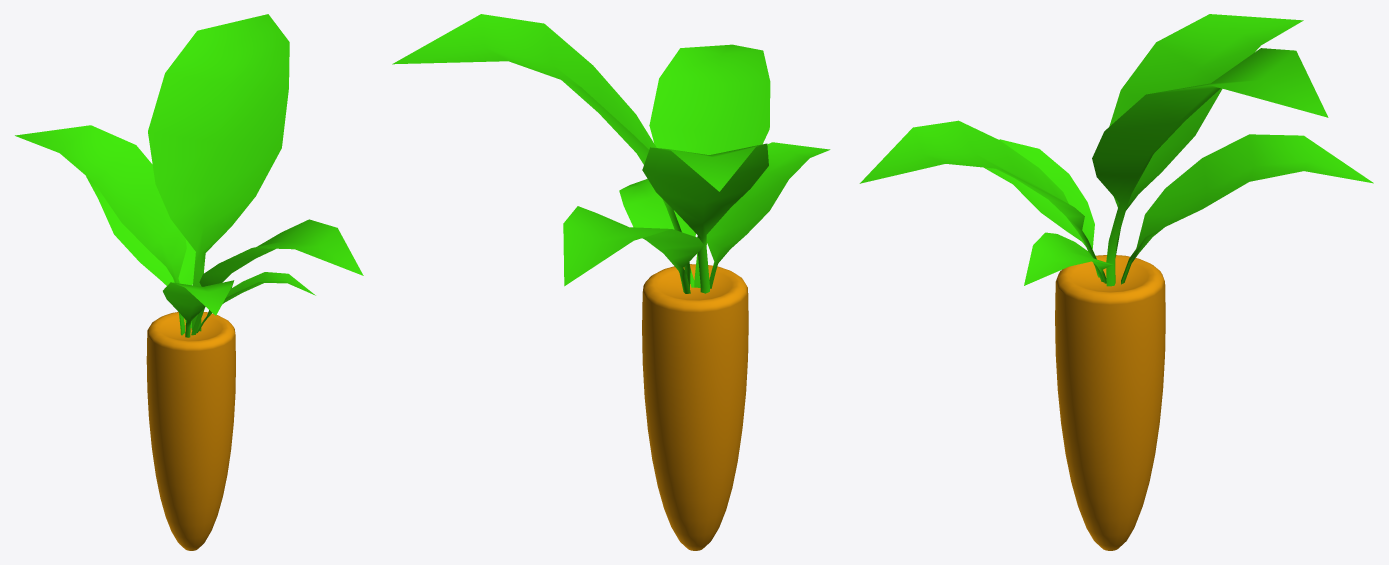
The model's file is ninzin.fbx.
3 renders of one model, left to right at view 1: azimuth 30°, elevation 25°; view 2: azimuth 150°, elevation 25°; view 3: azimuth 270°, elevation 25°, orthographic. The views are drawn at different scales.
Visible parts, largest first — view 1: pPlane7, ninzin, pPlane4, pPlane8, pPlane3, pPlane5, pPlane6; view 2: ninzin, pPlane8, pPlane7, pPlane4, pPlane3, pPlane5, pPlane6; view 3: ninzin, pPlane7, pPlane4, pPlane3, pPlane8, pPlane5, pPlane6.
Boxes of the visible parts, bbox=[...] form: pPlane7: bbox=[148, 14, 289, 331]; ninzin: bbox=[146, 312, 235, 550]; pPlane4: bbox=[15, 125, 186, 335]; pPlane8: bbox=[191, 219, 363, 335]; pPlane3: bbox=[86, 176, 195, 328]; pPlane5: bbox=[163, 280, 234, 337]; pPlane6: bbox=[196, 272, 315, 333]; ninzin: bbox=[642, 264, 748, 550]; pPlane8: bbox=[649, 44, 770, 287]; pPlane7: bbox=[392, 14, 690, 288]; pPlane4: bbox=[642, 143, 768, 293]; pPlane3: bbox=[563, 206, 703, 293]; pPlane5: bbox=[707, 142, 830, 288]; pPlane6: bbox=[619, 179, 695, 287]; ninzin: bbox=[1055, 255, 1165, 550]; pPlane7: bbox=[1092, 48, 1328, 286]; pPlane4: bbox=[1109, 14, 1303, 257]; pPlane3: bbox=[1121, 134, 1373, 284]; pPlane8: bbox=[859, 120, 1103, 282]; pPlane5: bbox=[984, 139, 1099, 277]; pPlane6: bbox=[1024, 232, 1113, 285].
Size of the model in its own units: 3.7 by 5.95 by 5.06.
